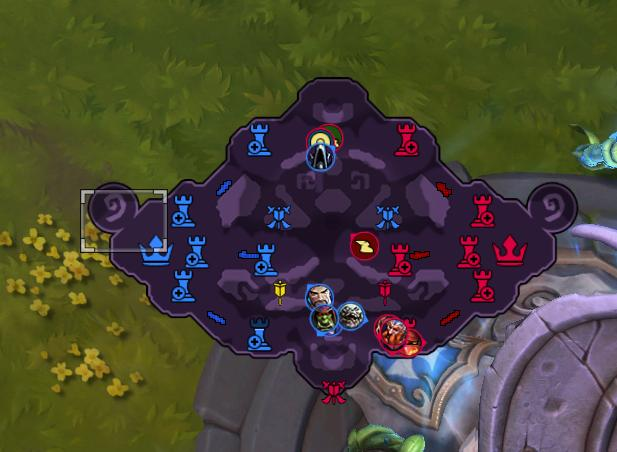blue player: (309, 304, 340, 336), (305, 141, 335, 172), (335, 300, 366, 330), (305, 283, 333, 310)
blue tower: (246, 121, 272, 157), (170, 268, 196, 302), (170, 193, 196, 227), (183, 234, 209, 268), (246, 315, 271, 350), (252, 242, 277, 276)
red player: (374, 314, 407, 351), (315, 122, 346, 153), (349, 230, 379, 260), (399, 327, 424, 357), (373, 314, 396, 341)
red tower: (393, 122, 419, 157), (469, 267, 495, 302), (455, 234, 481, 268), (469, 193, 495, 227), (387, 243, 413, 276)
